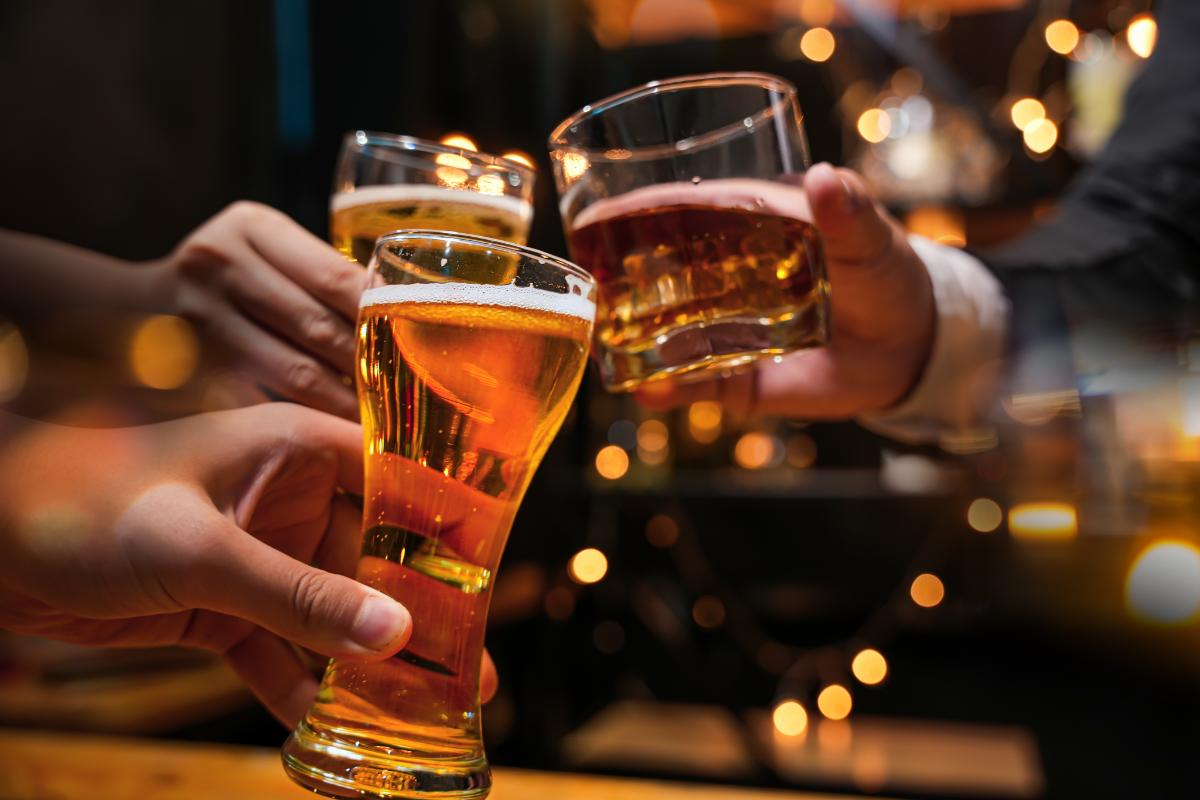Glass: (295, 231, 608, 800), (543, 61, 836, 375)
